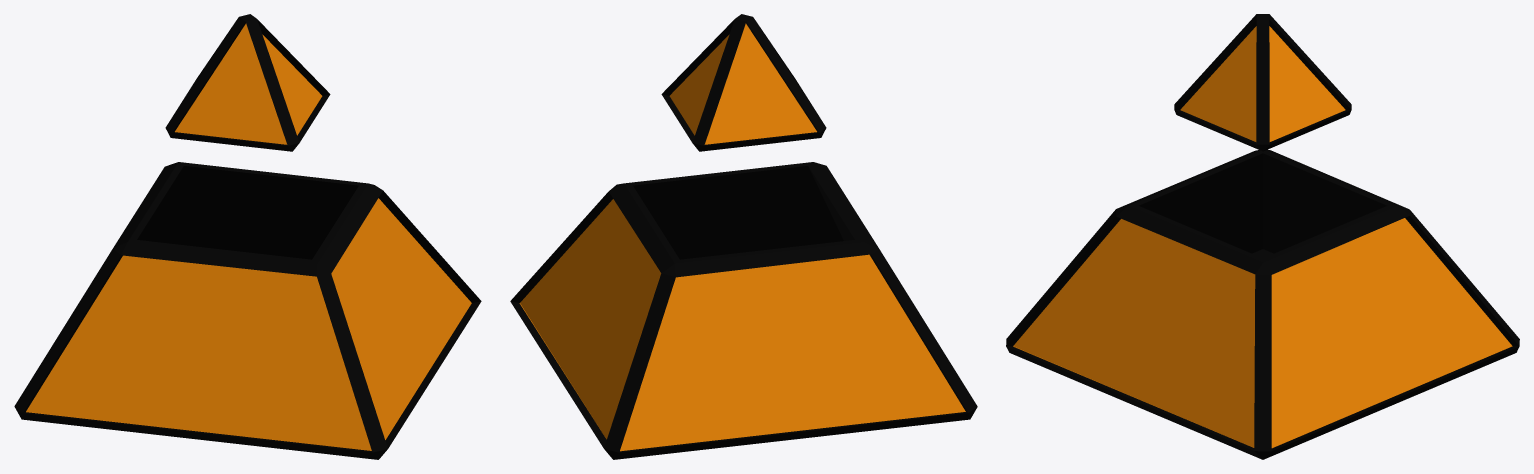
The model's file is dj_booth.fbx.
3 views of the same model, side by side, from view 1: azimuth 30°, elevation 25°; view 2: azimuth 150°, elevation 25°; view 3: azimuth 270°, elevation 25° (orthographic). The views are drawn at different scales.
Parts seen in each view (by area): view 1: pCube1, pCone1; view 2: pCube1, pCone1; view 3: pCube1, pCone1.
Boxes of the visible parts, x1,y1,x2,y2 form: pCube1: [14, 162, 481, 459]; pCone1: [165, 14, 330, 151]; pCube1: [510, 162, 977, 459]; pCone1: [661, 14, 826, 151]; pCube1: [1006, 149, 1519, 459]; pCone1: [1174, 14, 1351, 151].
Size of the model in its own units: 190 by 137 by 190.
